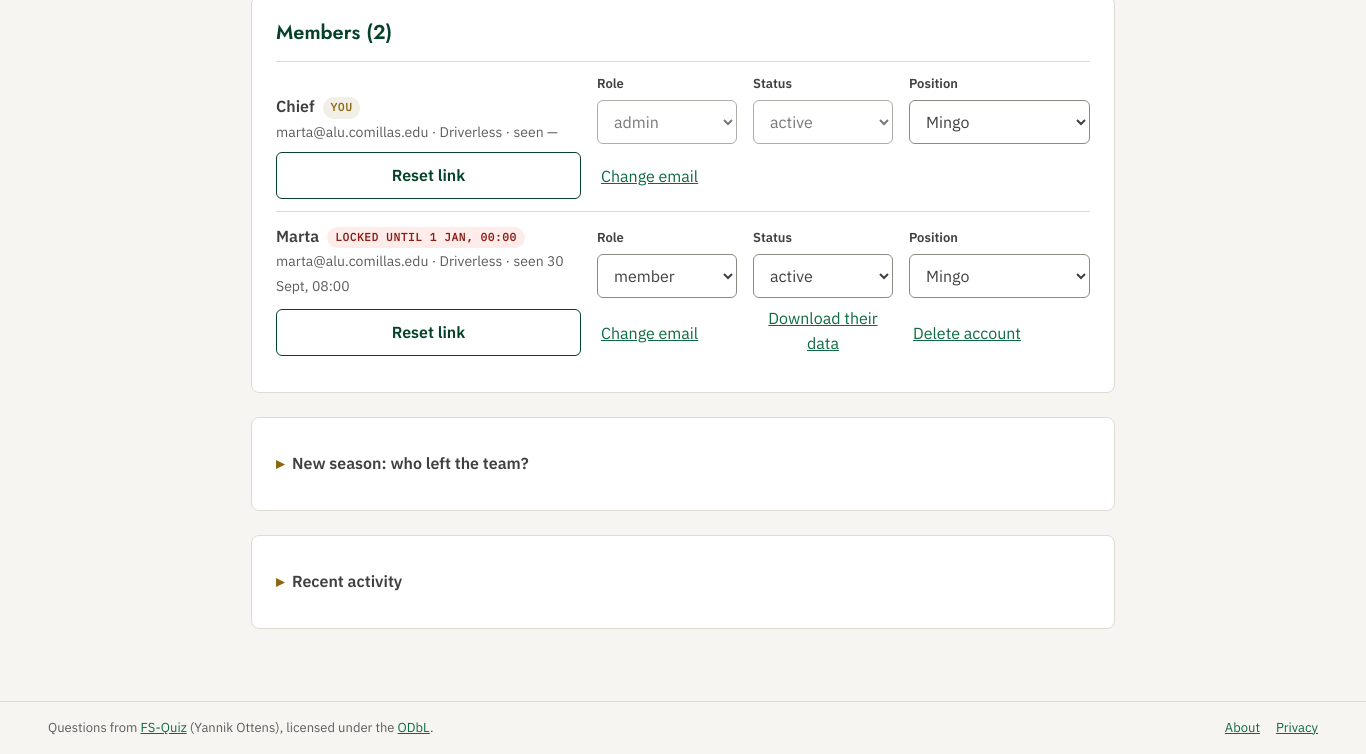
Test: review actions in the audit trail say what changed
(page scrolled)
Click the heading "Recent activity". click: click(347, 581)
box: [292,571,402,591]
(page scrolled)
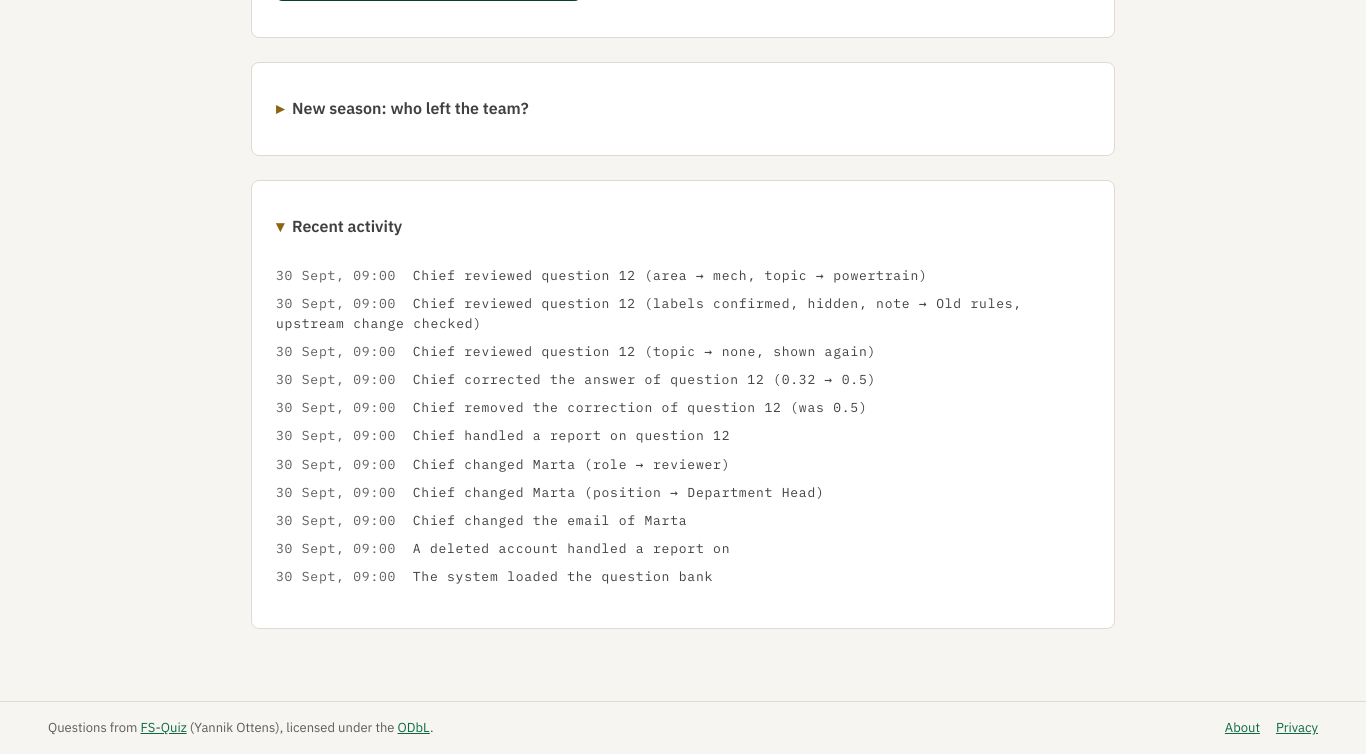
Result: the list item "30 Sept, 09:00 Chief handled a report on question 12" is shown at [276,427,730,444]
